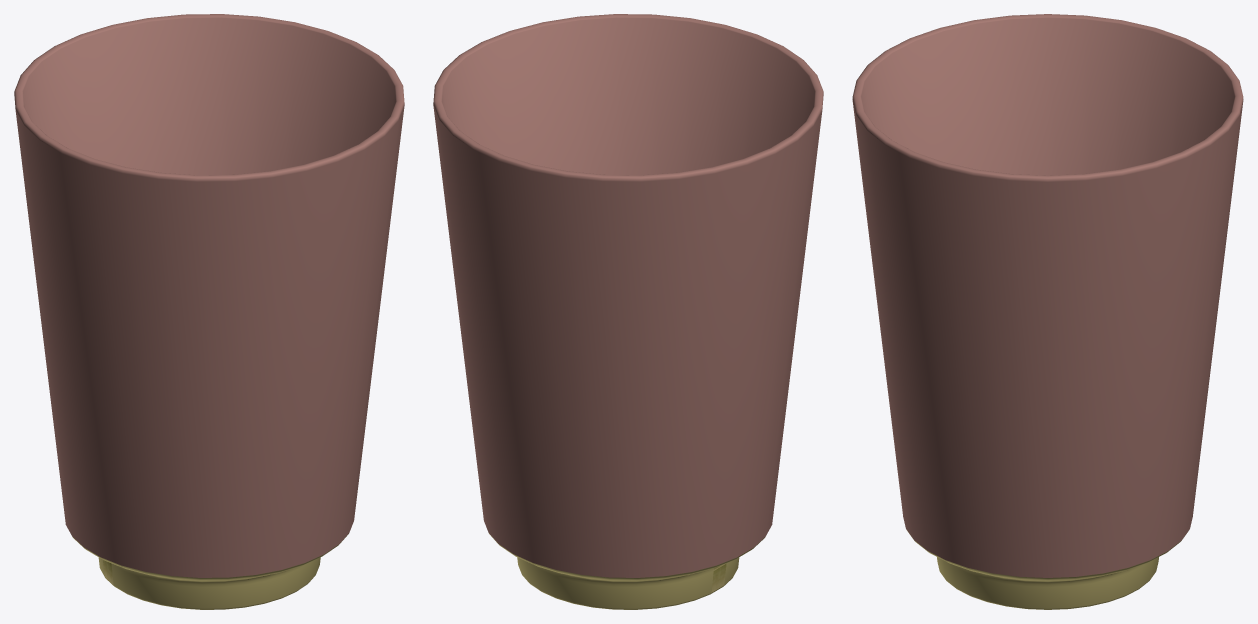
File: maceta.glb
3 views of the same model, side by side, from view 1: azimuth 30°, elevation 25°; view 2: azimuth 150°, elevation 25°; view 3: azimuth 270°, elevation 25° (orthographic).
Visible parts, largest first — view 1: maceta; view 2: maceta; view 3: maceta.
Boxes of the visible parts, bbox=[...] form: maceta: bbox=[14, 14, 404, 609]; maceta: bbox=[433, 14, 823, 609]; maceta: bbox=[852, 14, 1243, 609].
Size of the model in its own units: 25 by 33.04 by 25.
Materials: 2 (1 with a texture image).
